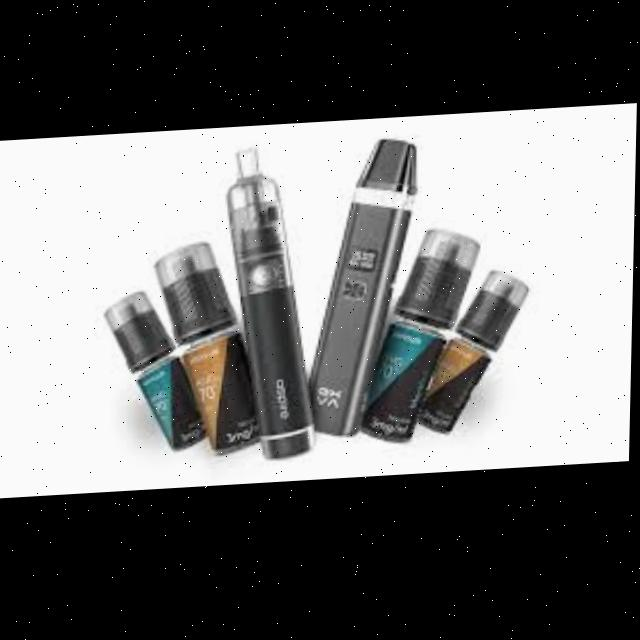vape: (309, 142, 418, 444), (223, 149, 322, 465)
